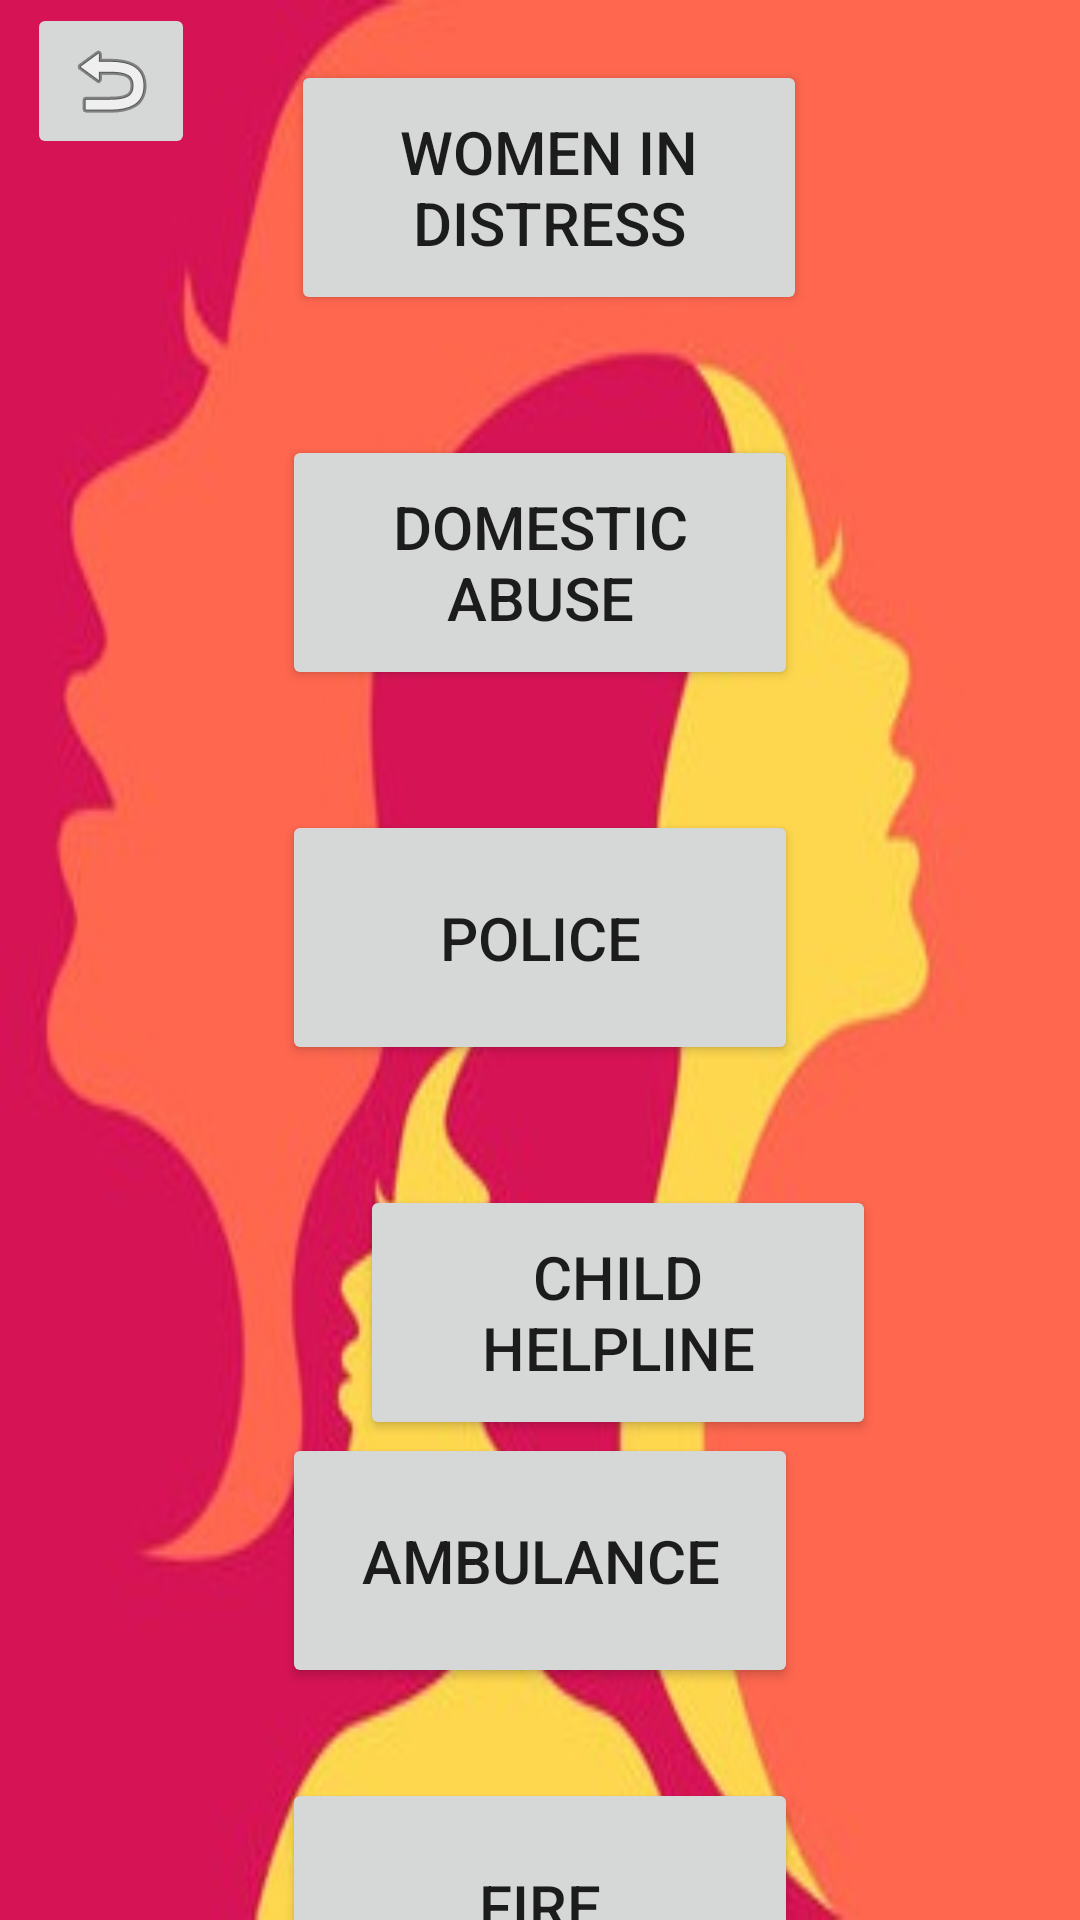

Screen size 1080w x 1920h. Icon name, then its box in pixels as (x1, y1, x2, y2):
Back: (39, 21, 183, 141)
